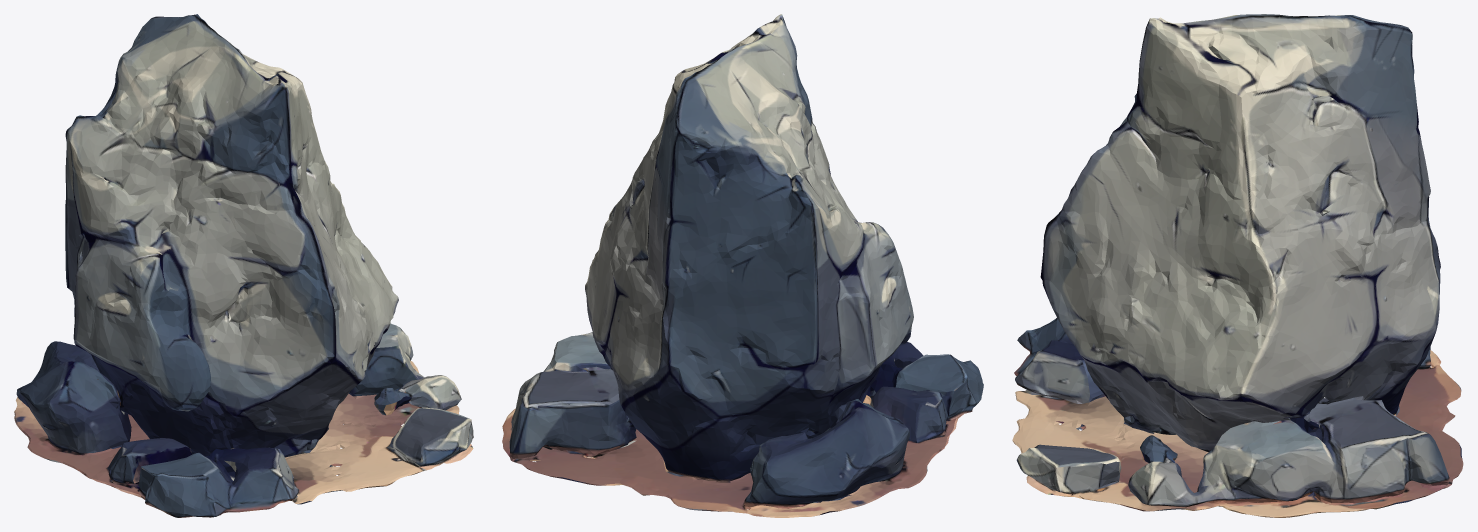
3 renders of one model, left to right at view 1: azimuth 30°, elevation 25°; view 2: azimuth 150°, elevation 25°; view 3: azimuth 270°, elevation 25°, orthographic. The views are drawn at different scales.
Parts seen in each view (by area): view 1: tmp0r0coko8.ply; view 2: tmp0r0coko8.ply; view 3: tmp0r0coko8.ply.
Part boxes in pixels (x1=…): tmp0r0coko8.ply: x1=14, y1=14, x2=473, y2=517; tmp0r0coko8.ply: x1=502, y1=14, x2=983, y2=517; tmp0r0coko8.ply: x1=1012, y1=14, x2=1463, y2=517.
Size of the model in its own units: 0.9976 by 0.9342 by 0.9377.
1 material, 1 textured.
